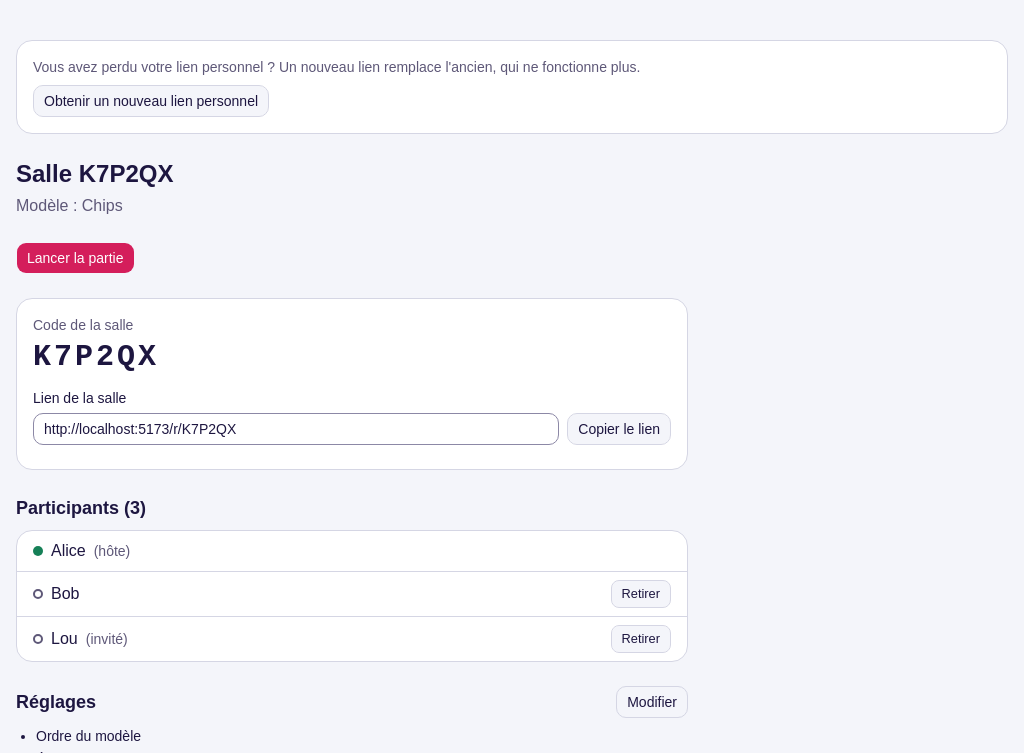
Test: RemoveParticipantDialog › removes a participant, who leaves the lobby
The width and height of the screenshot is (1024, 753).
Click the button with aria-label "Retirer Bob" at (641, 594), box x1=611 y1=580 x2=671 y2=608
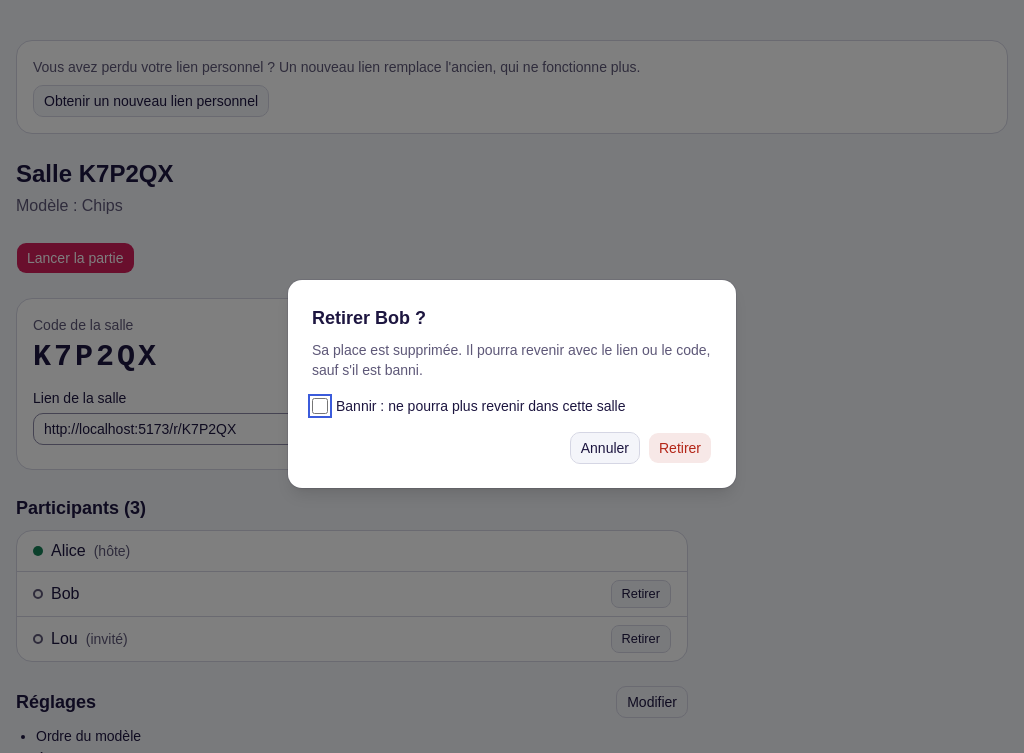
Click the button "Retirer" below "Retirer Bob ?" at (680, 448), box x1=648 y1=432 x2=712 y2=464
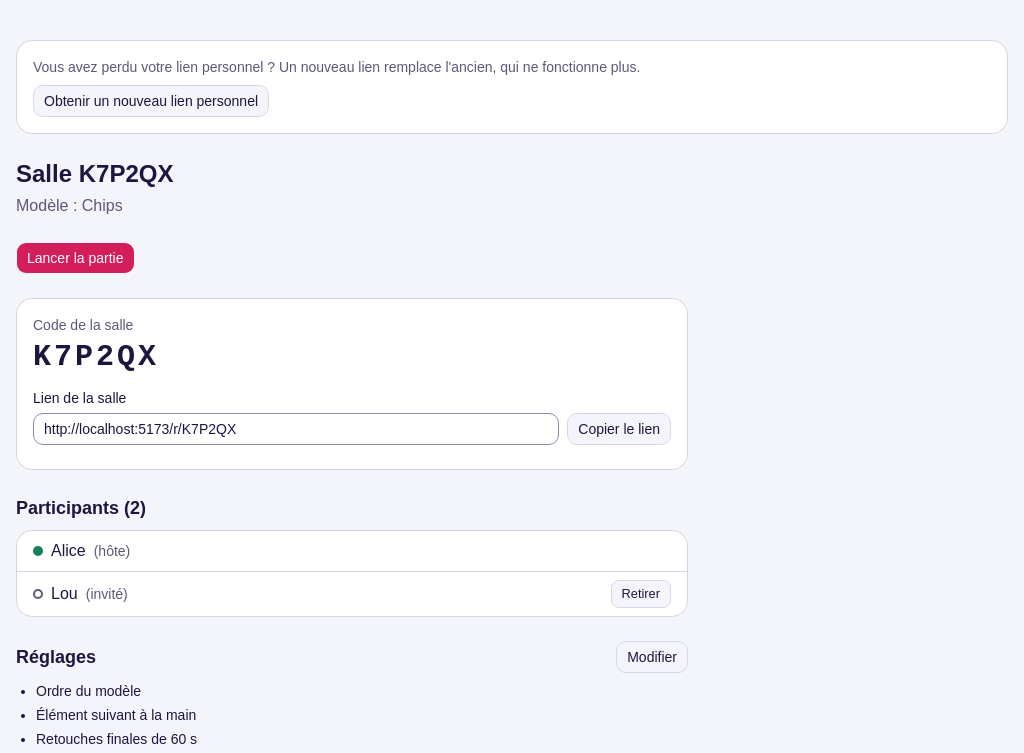
Result: the text "Bob" is gone
